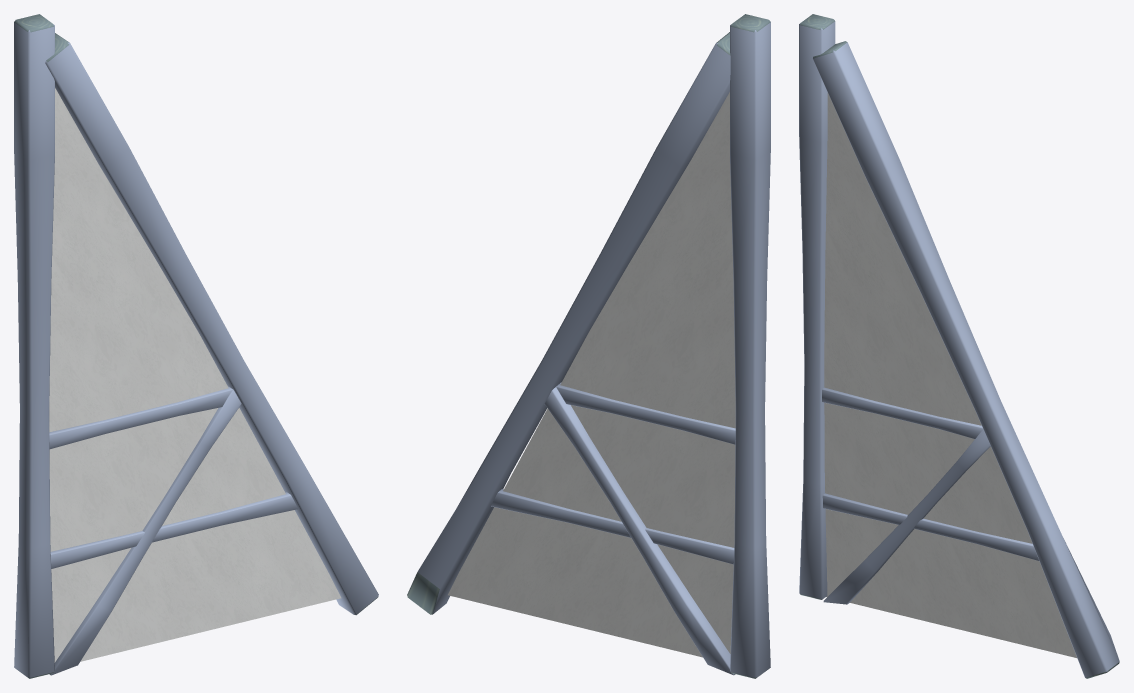
The model's file is PlasterWall_TriangleHalf_Right.fbx.
3 views of the same model, side by side, from view 1: azimuth 30°, elevation 25°; view 2: azimuth 150°, elevation 25°; view 3: azimuth 330°, elevation 25° (orthographic). The views are drawn at different scales.
Visible parts, largest first — view 1: PlasterWall_TriangleHalf_Right; view 2: PlasterWall_TriangleHalf_Right; view 3: PlasterWall_TriangleHalf_Right.
Boxes of the visible parts, x1,y1,x2,y2 form: PlasterWall_TriangleHalf_Right: (14, 14, 378, 678); PlasterWall_TriangleHalf_Right: (407, 14, 770, 678); PlasterWall_TriangleHalf_Right: (799, 14, 1119, 678).
Bounding box in the file's own units: 2.29 × 4.16 × 0.1934.
